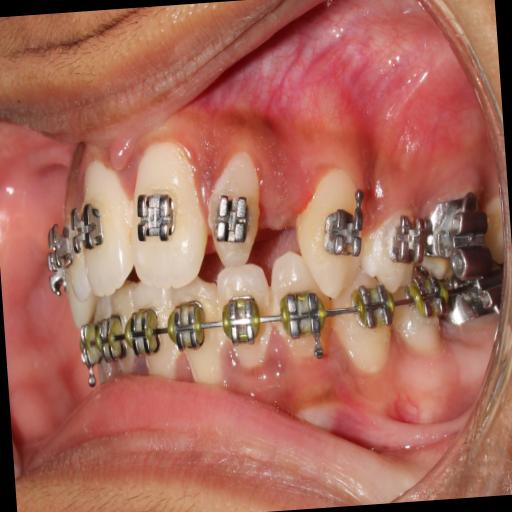correct_brace: (312, 190, 371, 266), (132, 182, 184, 250), (216, 291, 266, 355), (210, 189, 258, 252)
incorrect_brace: (202, 140, 272, 269), (214, 258, 276, 384)
